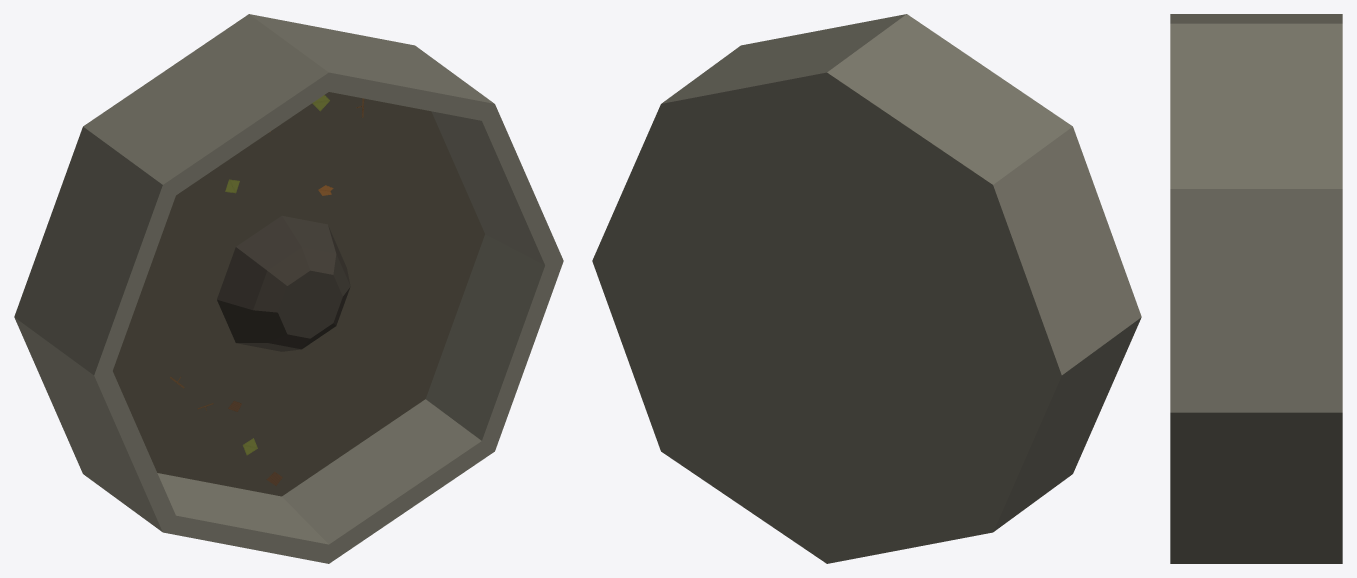
File: VD_Fountain_DryBasin.obj
3 renders of one model, left to right at view 1: azimuth 30°, elevation 25°; view 2: azimuth 150°, elevation 25°; view 3: azimuth 270°, elevation 25°, orthographic. The views are drawn at different scales.
Visible parts, largest first — view 1: VD_Fountain_DryBasin; view 2: VD_Fountain_DryBasin; view 3: VD_Fountain_DryBasin.
Boxes of the visible parts, left/top/right/bottom form: VD_Fountain_DryBasin: left=14, top=14, right=563, bottom=563; VD_Fountain_DryBasin: left=592, top=14, right=1141, bottom=563; VD_Fountain_DryBasin: left=1170, top=14, right=1342, bottom=563.
Size of the model in its own units: 380 by 380 by 112.
4 materials, 1 textured.
